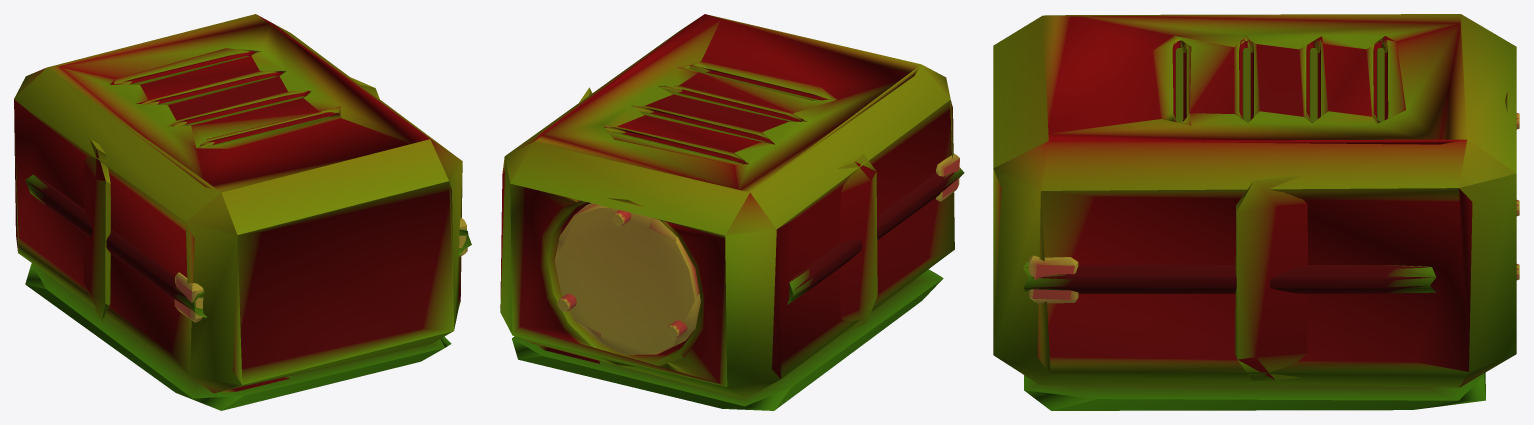
File: RCLModule_assault_walker_orbital_drop_pod_cermet_aps.fbx
The picture shows the model from 3 angles, left to right: view 1: azimuth 30°, elevation 25°; view 2: azimuth 150°, elevation 25°; view 3: azimuth 270°, elevation 25°; orthographic projection. The views are drawn at different scales.
Visible parts, largest first — view 1: RCLModule_assault_walker_orbital_drop_pod_cermet_aps_Batch_R (×3); view 2: RCLModule_assault_walker_orbital_drop_pod_cermet_aps_Batch_R (×3); view 3: RCLModule_assault_walker_orbital_drop_pod_cermet_aps_Batch_R (×3).
Boxes of the visible parts, box(x1,y1,x2,y2) form: RCLModule_assault_walker_orbital_drop_pod_cermet_aps_Batch_R (×3): box(14, 14, 471, 410); RCLModule_assault_walker_orbital_drop_pod_cermet_aps_Batch_R (×3): box(500, 14, 964, 410); RCLModule_assault_walker_orbital_drop_pod_cermet_aps_Batch_R (×3): box(993, 14, 1519, 410).
Size of the model in its own units: 30.13 by 21.68 by 39.74.
